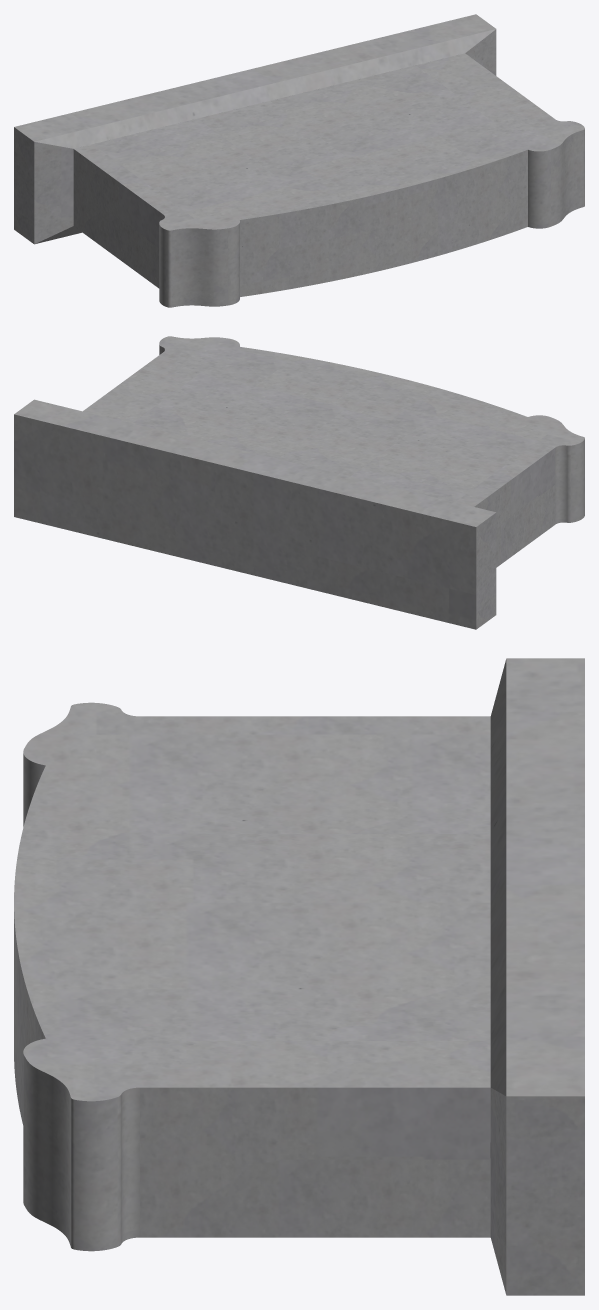
3 renders of one model, top to bottom at view 1: azimuth 30°, elevation 25°; view 2: azimuth 150°, elevation 25°; view 3: azimuth 270°, elevation 25°, orthographic. The views are drawn at different scales.
Visible parts, largest first — view 1: PA-161-F_LOD0; view 2: PA-161-F_LOD0; view 3: PA-161-F_LOD0.
Part boxes in pixels (x1=…): PA-161-F_LOD0: x1=14, y1=14, x2=584, y2=307; PA-161-F_LOD0: x1=14, y1=336, x2=584, y2=629; PA-161-F_LOD0: x1=14, y1=658, x2=584, y2=1295.
Size of what is drawn, in the model's own units: 168 by 35.56 by 92.31.
